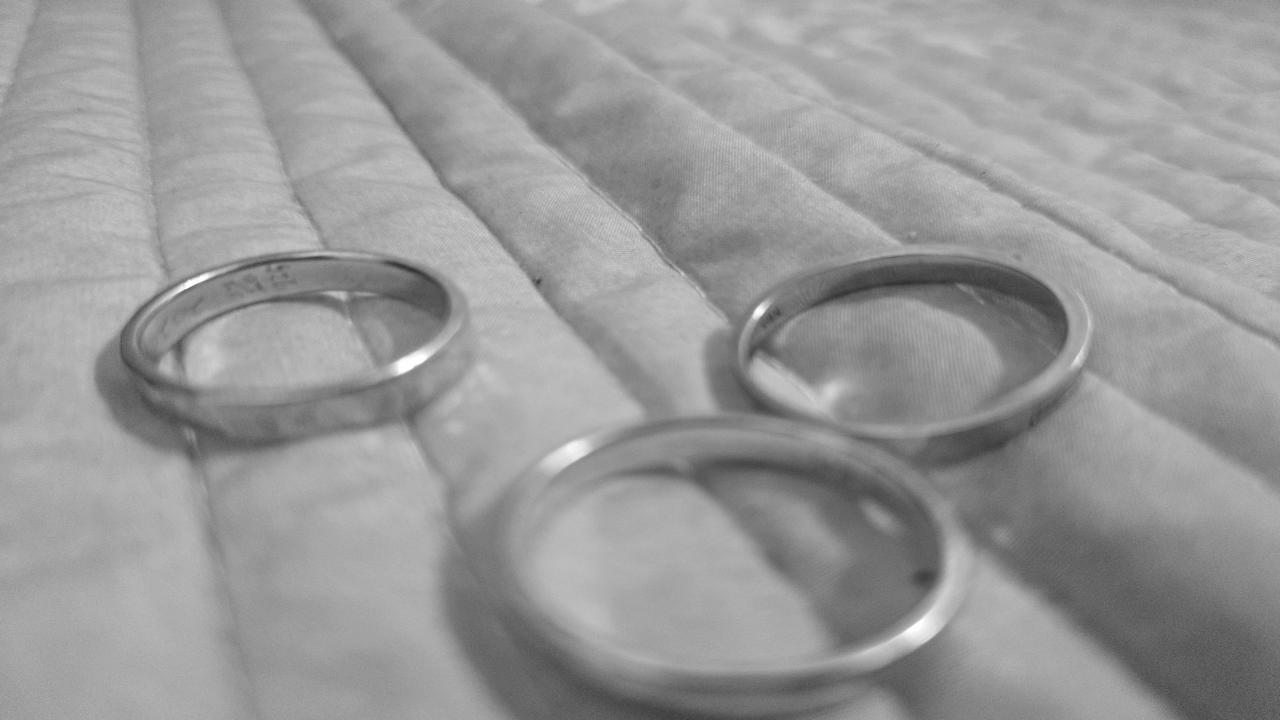ring: (489, 412, 971, 708), (727, 243, 1096, 458), (114, 247, 474, 440)
